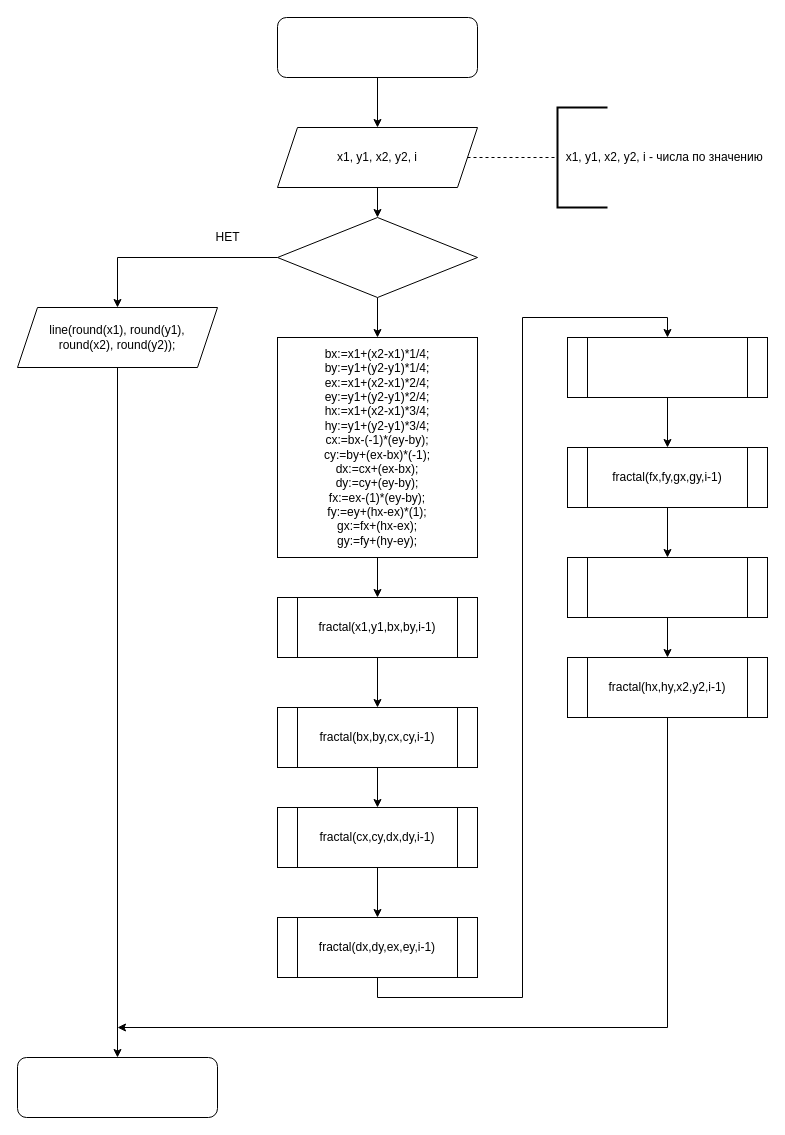
Some shapes in this 785 by 1135 pixel diagram are drawn without their labels. Each missing label, with the box of its shape:
fractal НАЧАЛО: (276, 16, 478, 78)
fractal(ex,ey,fx,fy,i-1): (566, 336, 768, 398)
fractal(gx,gy,hx,hy,i-1): (566, 556, 768, 618)
i = 0: (276, 216, 478, 298)
КОНЕЦ fractal: (16, 1056, 218, 1118)
